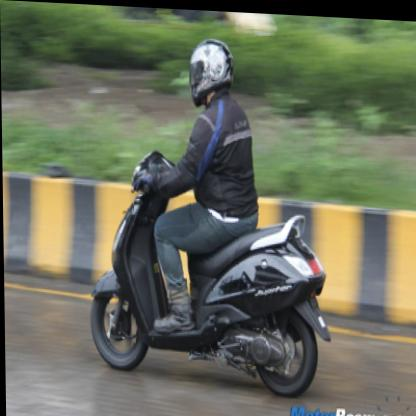With Helmet: (184, 31, 238, 111)
